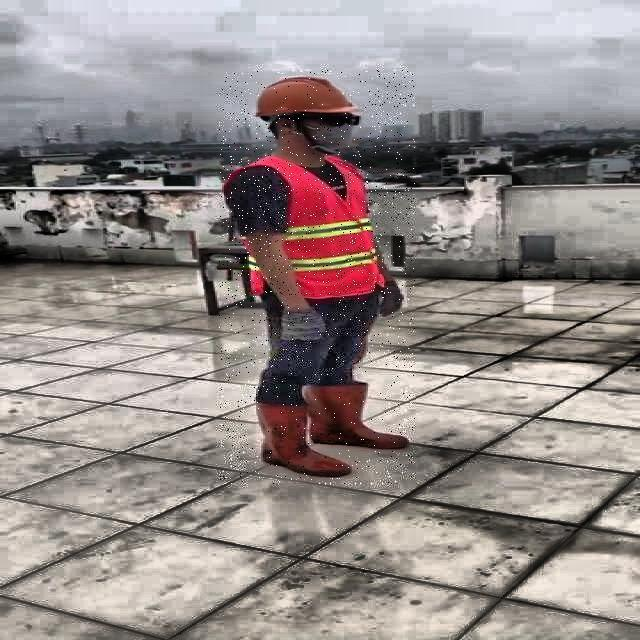safety_helmet: (252, 74, 355, 118)
safety_jacket: (222, 159, 380, 297)
